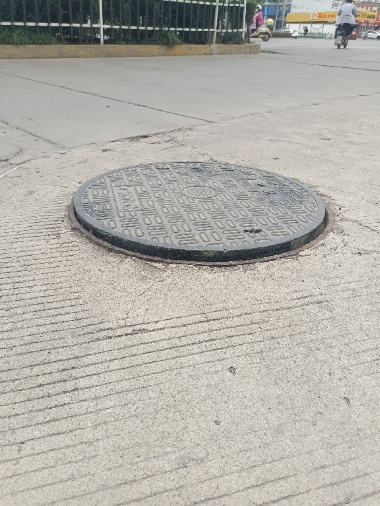good: (69, 161, 336, 268)
